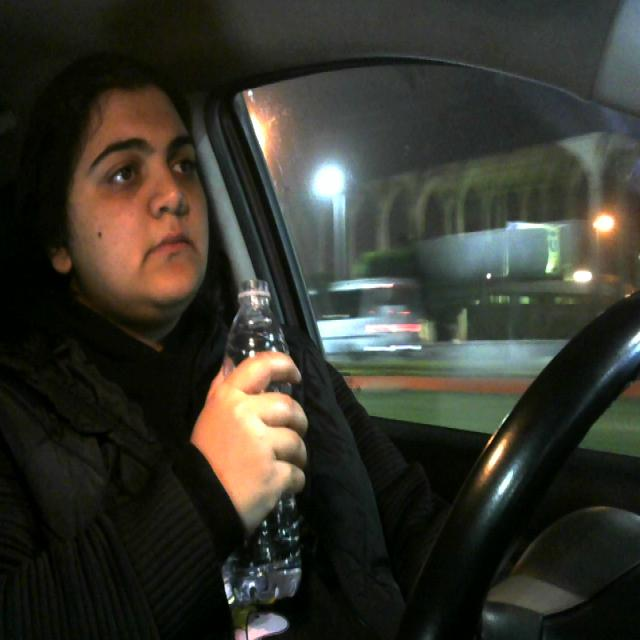drinking: (222, 270, 308, 611)
